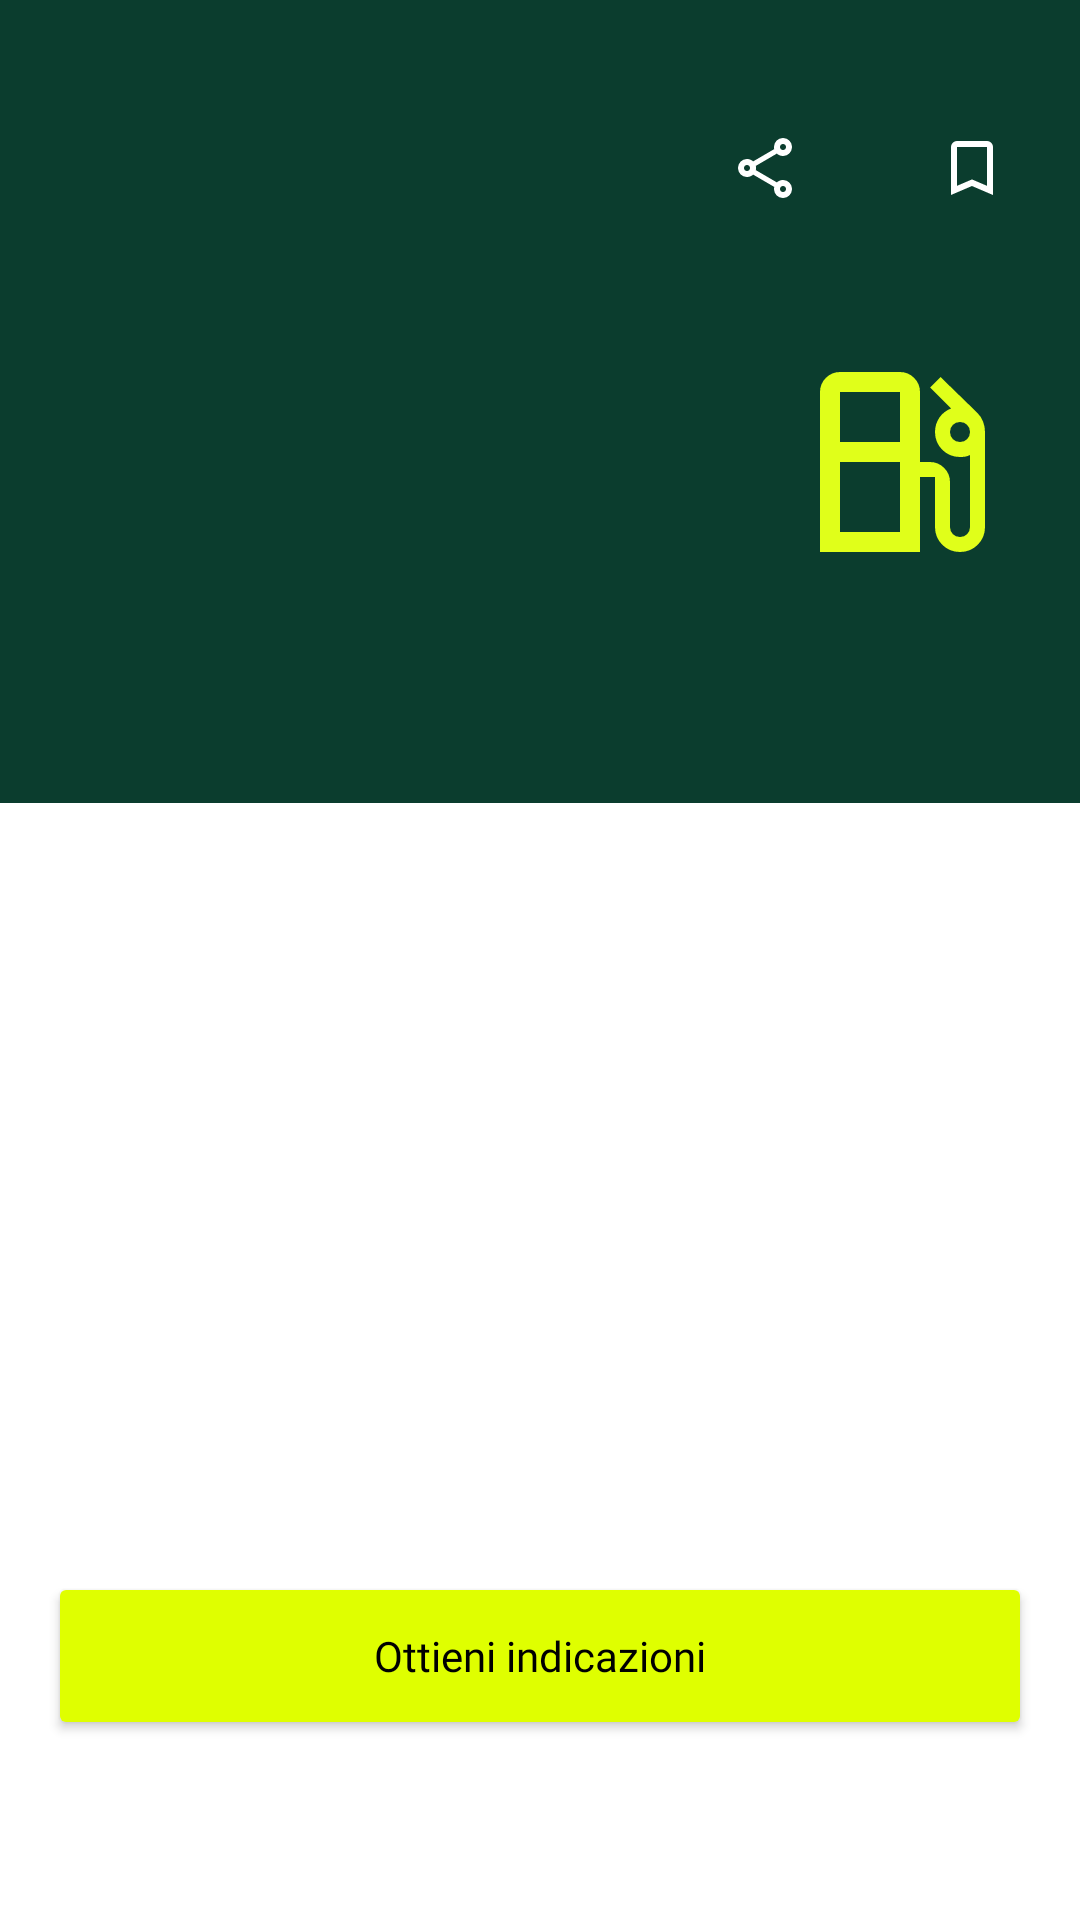

Screen size 1080 × 1920. Icon name, then its center in pixels as (x,y):
bookmark: (972,168)
share: (765,168)
